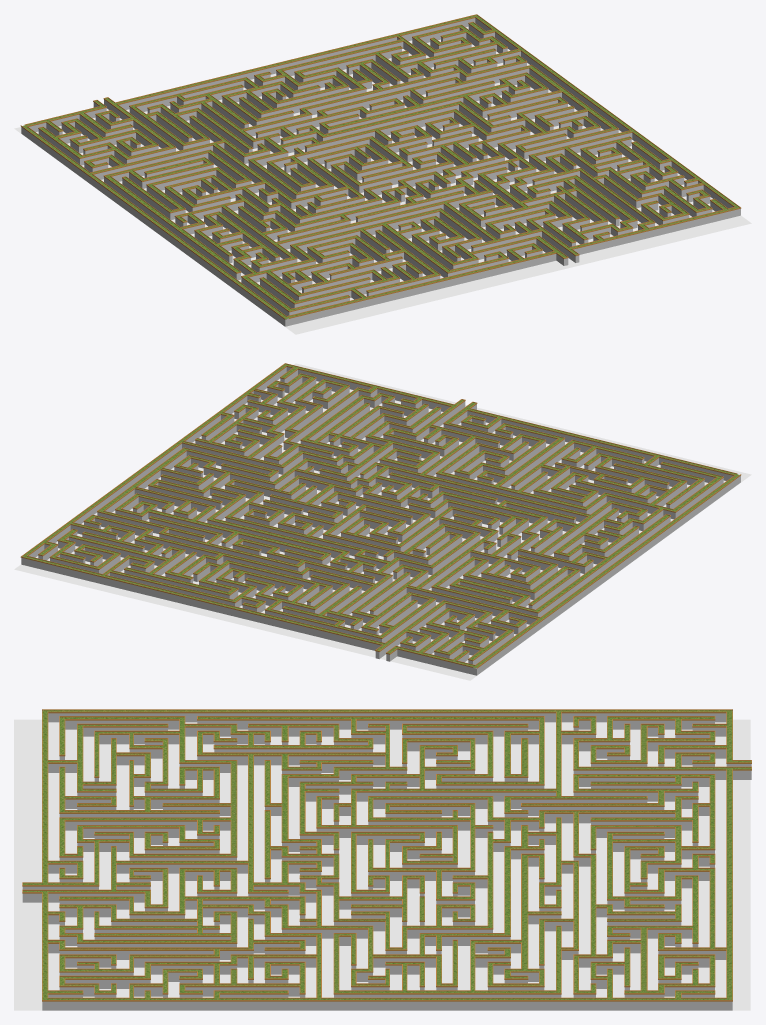
Rendered from maze3.glb.
3 renders of one model, top to bottom at view 1: azimuth 30°, elevation 25°; view 2: azimuth 150°, elevation 25°; view 3: azimuth 270°, elevation 25°, orthographic. The views are drawn at different scales.
Parts seen in each view (by area): view 1: Maze, Plane, Maze_Maze_Top_Mat_0.001; view 2: Maze, Plane, Maze_Maze_Top_Mat_0.001; view 3: Maze, Plane, Maze_Maze_Top_Mat_0.001.
Boxes of the visible parts, box(x1,y1,x2,y2) form: Maze: box(20, 14, 740, 326); Plane: box(14, 26, 751, 334); Maze_Maze_Top_Mat_0.001: box(25, 14, 741, 318); Maze: box(20, 363, 741, 675); Plane: box(14, 363, 751, 680); Maze_Maze_Top_Mat_0.001: box(22, 366, 737, 666); Maze: box(22, 709, 751, 1010); Plane: box(14, 719, 750, 1010); Maze_Maze_Top_Mat_0.001: box(22, 711, 751, 999).
Size of the model in its own units: 187 by 3.22 by 200.
Materials: 4 (1 with a texture image).
